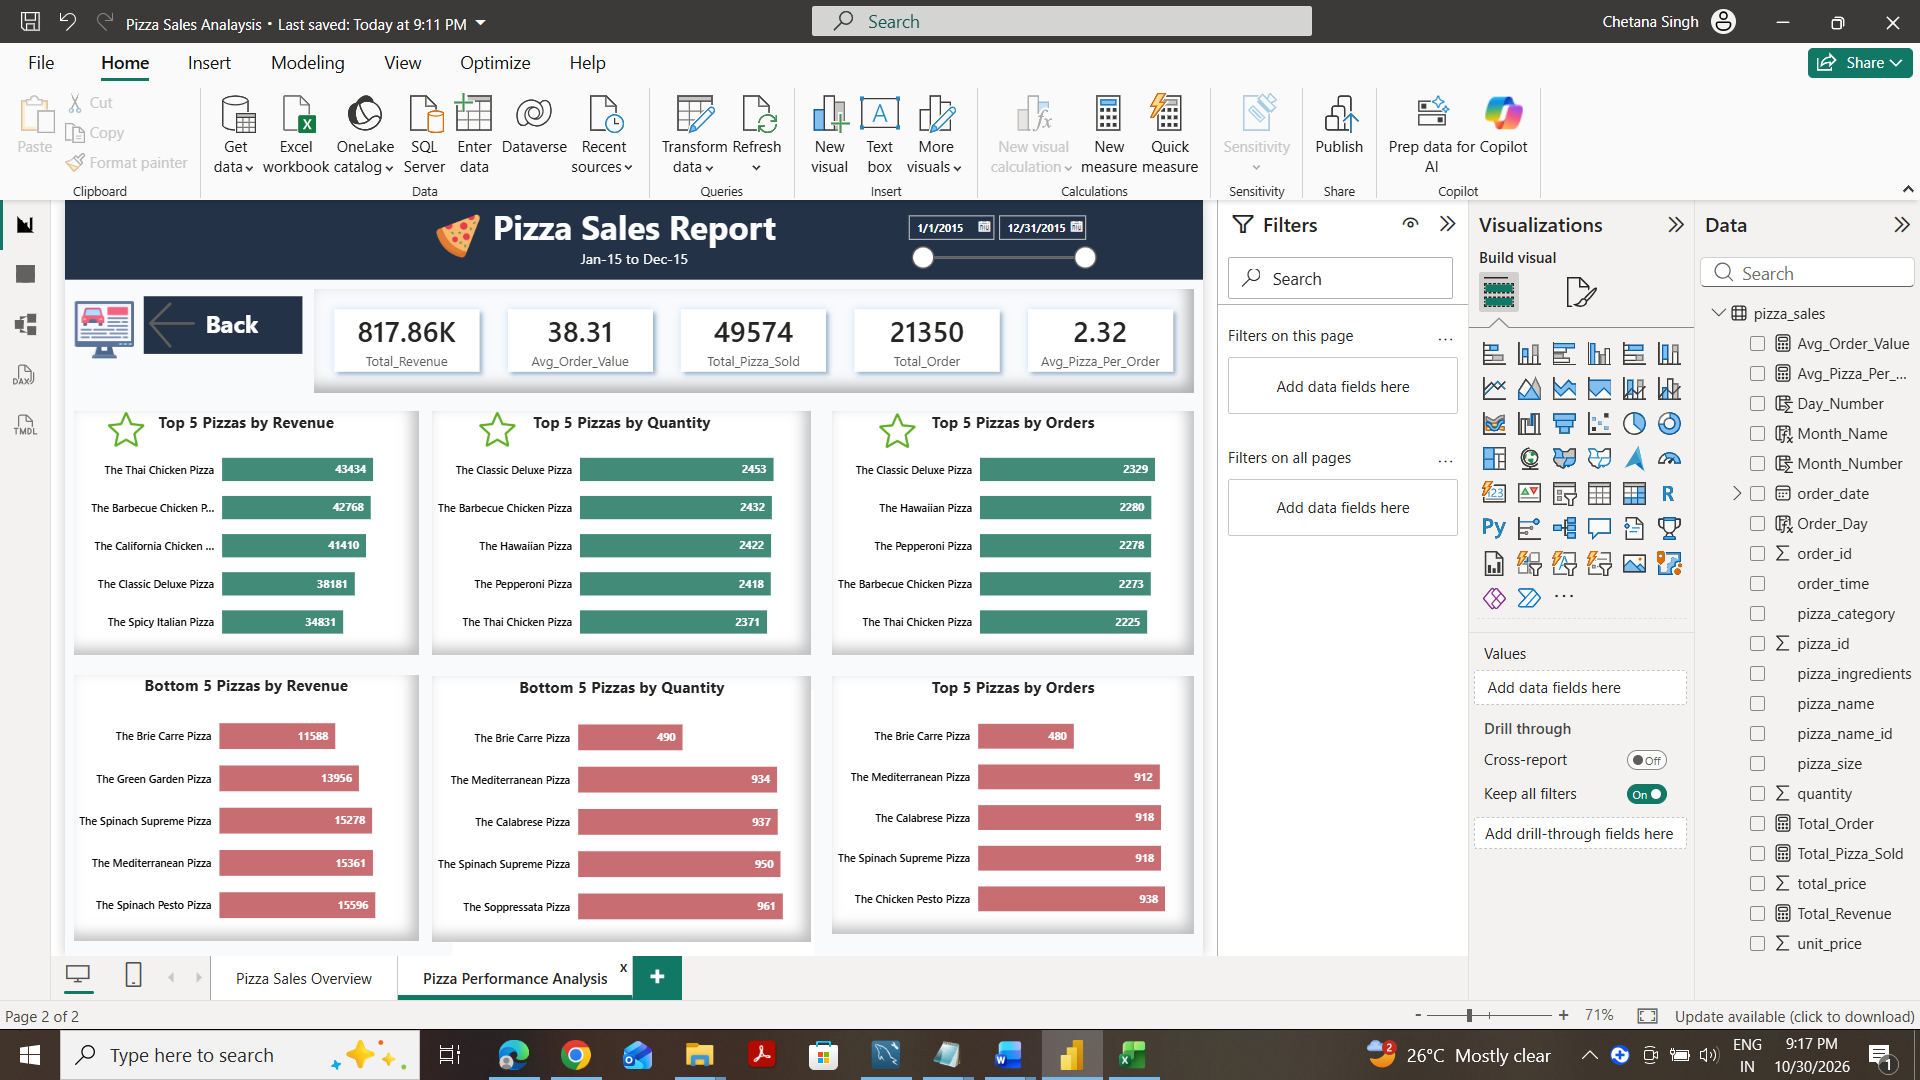

Layout of this report page (visuals, bound fields, positions):
{"tool":"powerbi","page":{"name":"Pizza Performance Analysis","canvas":[1280,850],"ordinal":1},"visuals":[{"type":"cardVisual","fields":{"Data":["pizza_sales.Total_Revenue","pizza_sales.Avg_Order_Value","pizza_sales.Total_Pizza_Sold","pizza_sales.Total_Order","pizza_sales.Avg_Pizza_Per_Order"]},"box":[279.7,99.8,989.4,116.7],"z":0},{"type":"textbox","box":[0,0,1280.3,89.9],"z":1000},{"type":"clusteredBarChart","title":"Top 5 Pizzas by Revenue","fields":{"Category":["pizza_sales.pizza_name"],"Y":["pizza_sales.Total_Revenue"]},"box":[9.8,237.5,387.9,274.1],"z":2000},{"type":"clusteredBarChart","title":"Top 5 Pizzas by Quantity","fields":{"Category":["pizza_sales.pizza_name"],"Y":["pizza_sales.Total_Pizza_Sold"]},"box":[413.2,237.5,425.8,274.1],"z":3000},{"type":"clusteredBarChart","title":"Top 5 Pizzas by Orders","fields":{"Category":["pizza_sales.pizza_name"],"Y":["Count(pizza_sales.order_id)"]},"box":[862.9,237.5,406.2,274.1],"z":4000},{"type":"clusteredBarChart","title":"Bottom 5 Pizzas by Orders","fields":{"Category":["pizza_sales.pizza_name"],"Y":["Count(pizza_sales.order_id)"]},"box":[435.7,550.9,406.2,299.4],"z":5000},{"type":"clusteredBarChart","title":"Bottom 5 Pizzas by Quantity","fields":{"Category":["pizza_sales.pizza_name"],"Y":["pizza_sales.Total_Pizza_Sold"]},"box":[413.2,535.5,425.8,299.4],"z":6000},{"type":"clusteredBarChart","title":"Bottom 5 Pizzas by Revenue","fields":{"Category":["pizza_sales.pizza_name"],"Y":["pizza_sales.Total_Revenue"]},"box":[9.8,534.1,387.9,299.4],"z":7000},{"type":"clusteredBarChart","title":"Top 5 Pizzas by Orders","fields":{"Category":["pizza_sales.pizza_name"],"Y":["Count(pizza_sales.order_id)"]},"box":[862.9,535.5,406.2,289.5],"z":8000},{"type":"image","box":[37.9,237.5,61.8,40.8],"z":10000},{"type":"image","box":[905.1,238.9,61.8,40.8],"z":11000},{"type":"image","box":[455.4,237.5,61.8,40.8],"z":12000},{"type":"image","box":[9.8,108.2,68.9,74.5],"z":13000},{"type":"image","box":[413.2,15.5,57.6,50.6],"z":14000},{"type":"actionButton","box":[88.5,108.2,178.5,64.6],"z":14001},{"type":"slicer","fields":{"Values":["pizza_sales.order_date"]},"box":[936,7,231.9,71.7],"z":14002}]}

Visuals, with their boxes on the page's 1280x850 design canvas (x1, y1, x2, y2). These are canvas units, not pixel positions in the 1920x1080 screenshot, which may show the page scaled, cropped or inside an application window:
cardVisual - pizza_sales.Total_Revenue x pizza_sales.Avg_Order_Value: bbox=[280, 100, 1269, 216]
textbox: bbox=[0, 0, 1280, 90]
"Top 5 Pizzas by Revenue" clusteredBarChart: bbox=[10, 238, 398, 512]
"Top 5 Pizzas by Quantity" clusteredBarChart: bbox=[413, 238, 839, 512]
"Top 5 Pizzas by Orders" clusteredBarChart: bbox=[863, 238, 1269, 512]
"Bottom 5 Pizzas by Orders" clusteredBarChart: bbox=[436, 551, 842, 850]
"Bottom 5 Pizzas by Quantity" clusteredBarChart: bbox=[413, 536, 839, 835]
"Bottom 5 Pizzas by Revenue" clusteredBarChart: bbox=[10, 534, 398, 834]
"Top 5 Pizzas by Orders" clusteredBarChart: bbox=[863, 536, 1269, 825]
image: bbox=[38, 238, 100, 278]
image: bbox=[905, 239, 967, 280]
image: bbox=[455, 238, 517, 278]
image: bbox=[10, 108, 79, 183]
image: bbox=[413, 16, 471, 66]
actionButton: bbox=[88, 108, 267, 173]
slicer - pizza_sales.order_date: bbox=[936, 7, 1168, 79]
